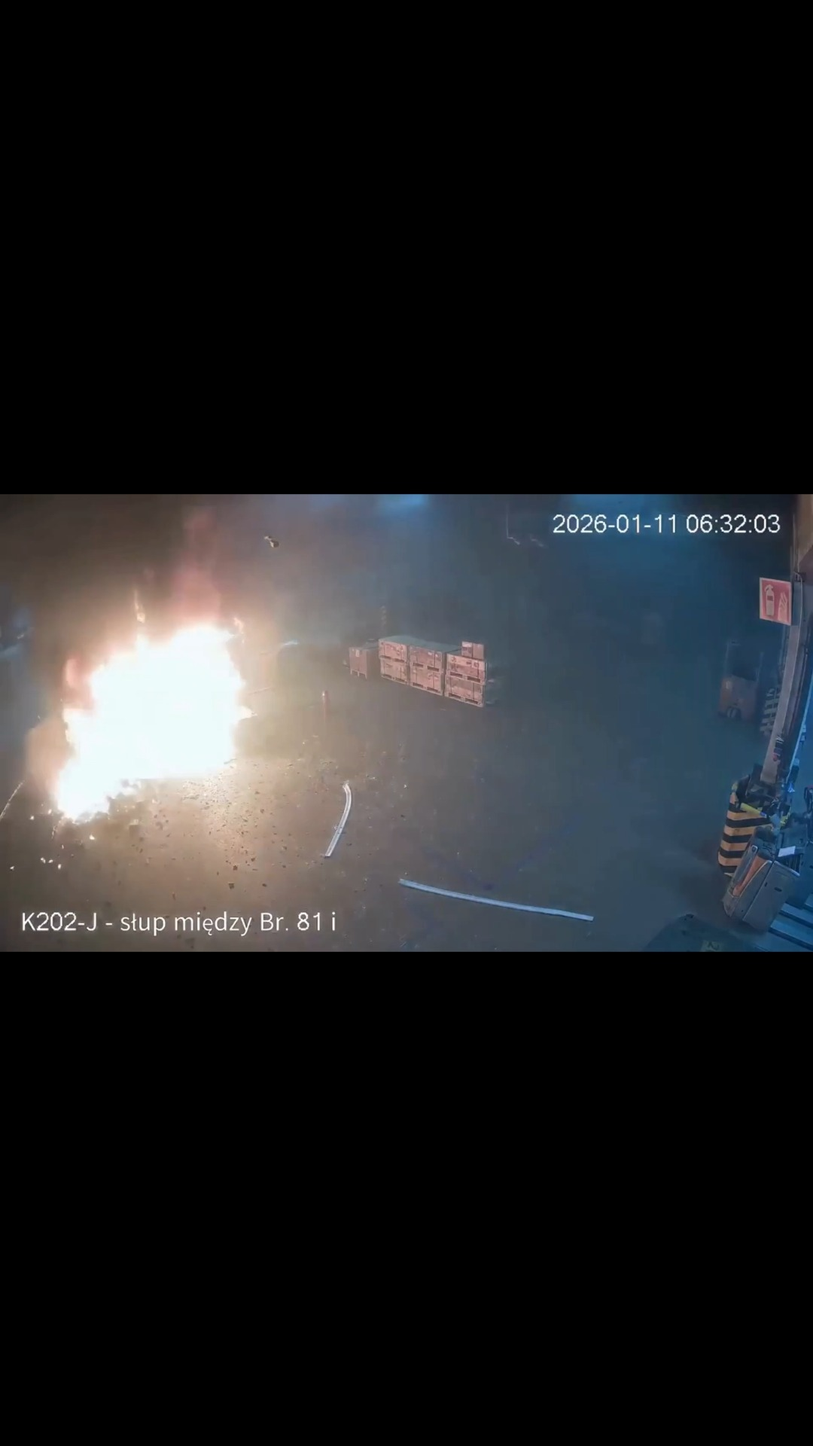fire: (38, 594, 257, 831)
smoke: (51, 496, 330, 660)
